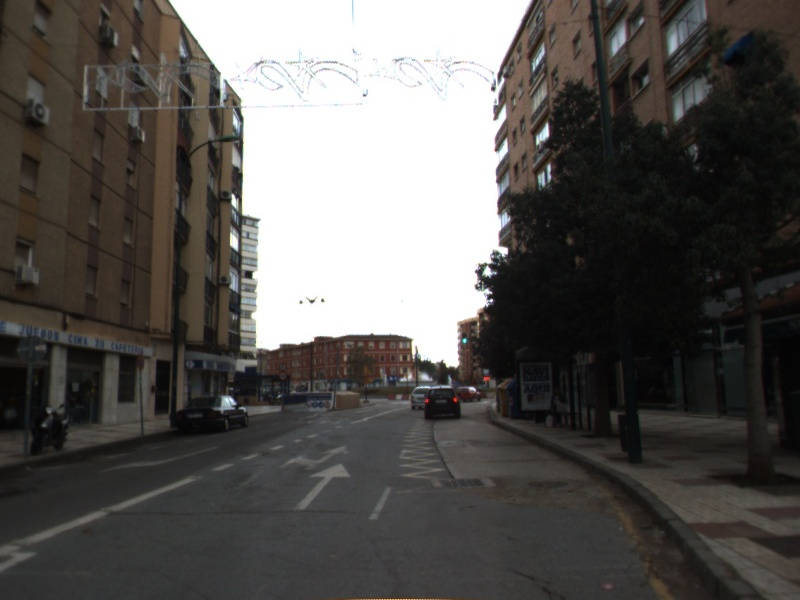STRAIGHT: (290, 461, 352, 512)
STRAIGHT_LEFT: (278, 443, 352, 472)
